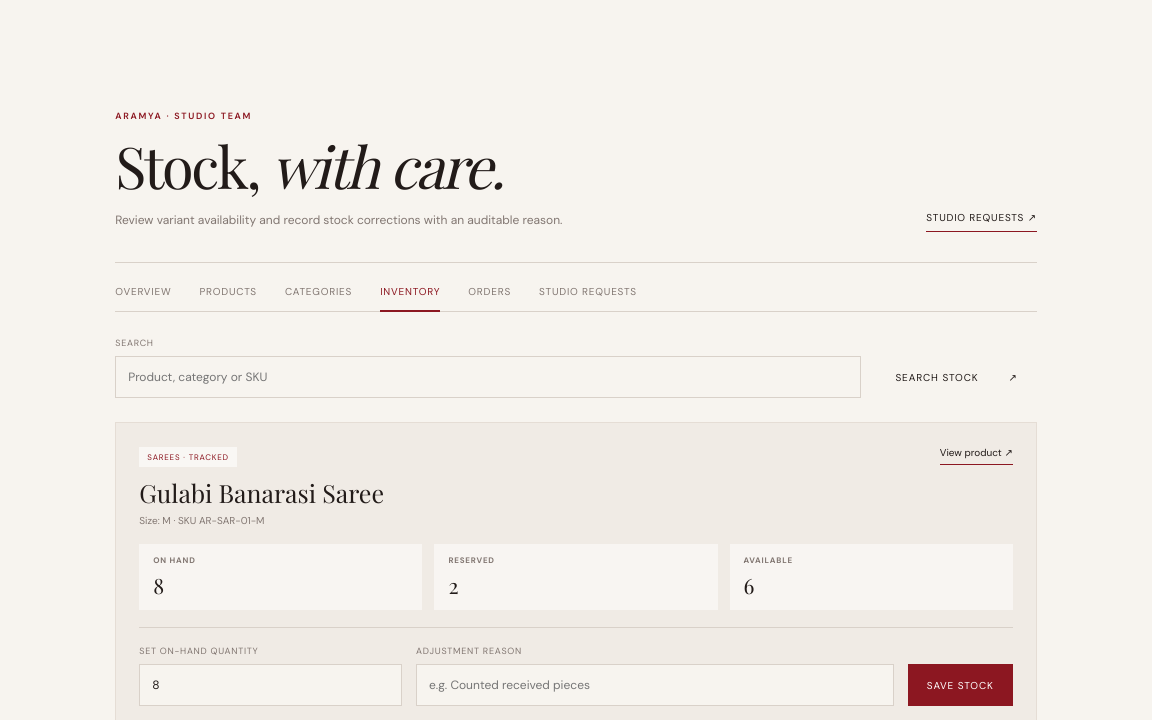
it: admin inventory page › shows variant quantities and commits a CSRF-protected stock correction
Expected: the heading "Gulabi Banarasi Saree" is shown, x1=139 y1=476 x2=384 y2=509
Expected: the text "6" is shown, x1=744 y1=571 x2=754 y2=599
Replace the text in the number field labelled "Set on-hand quantity" with "11" at (271, 685), box x1=139 y1=664 x2=402 y2=706
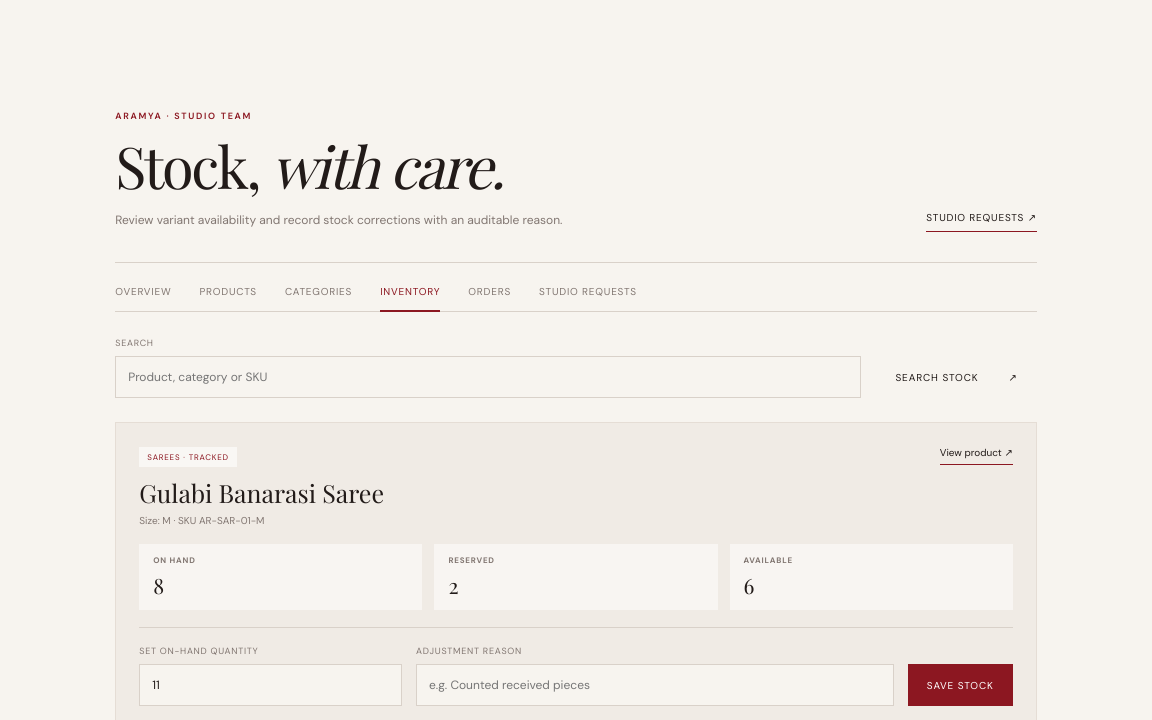
Type "Received counted pieces" into the field labelled "Adjustment reason".
click(655, 685); type("Received counted pieces")  # box x1=416 y1=664 x2=894 y2=706
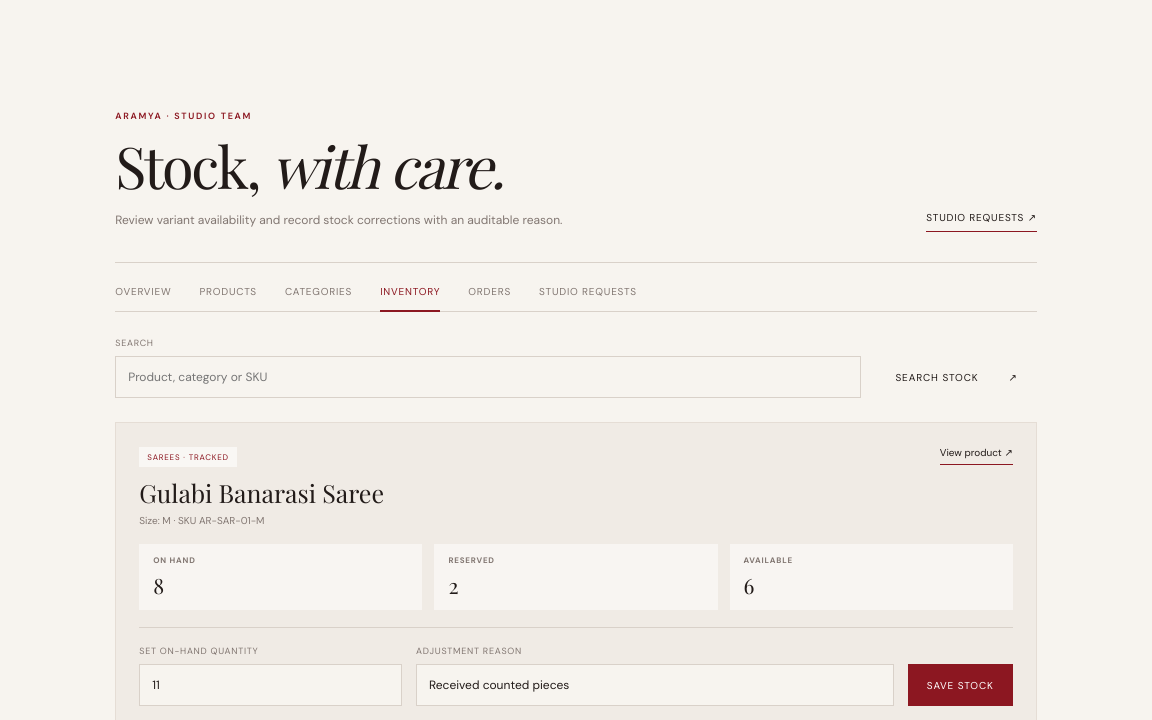
Click the button "Save stock".
click(960, 685)  # box x1=908 y1=664 x2=1013 y2=706
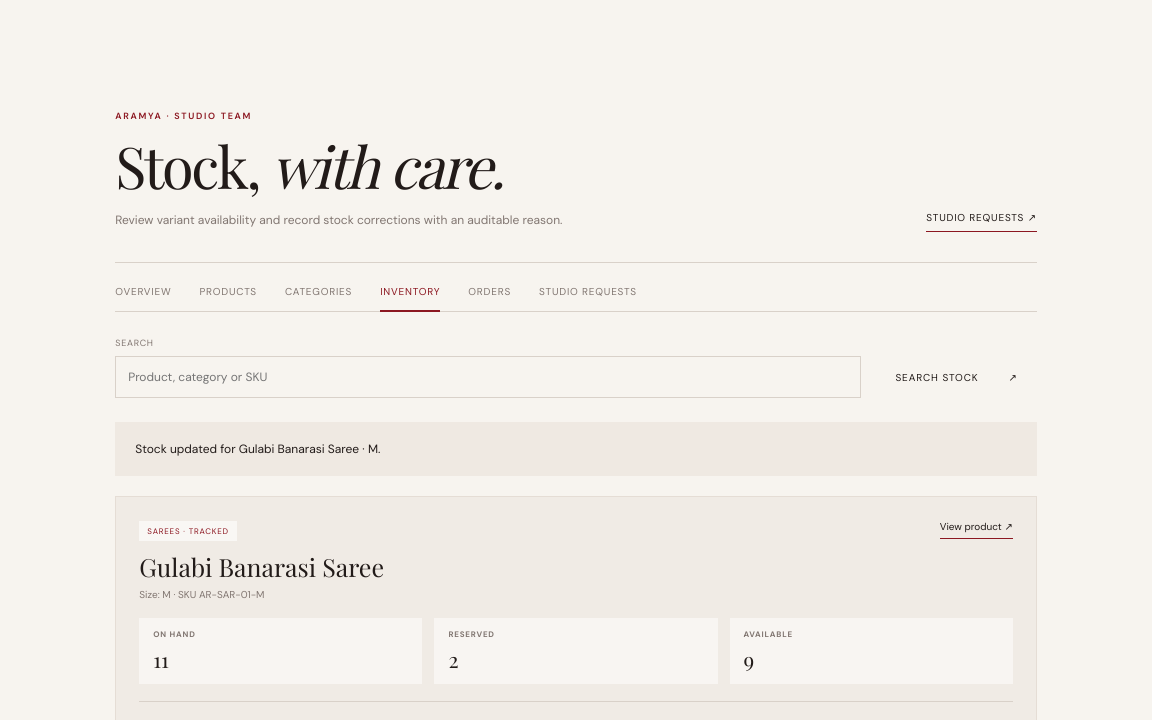
Expected: the message shows "Stock updated for Gulabi Banarasi Saree", x1=135 y1=441 x2=380 y2=457
